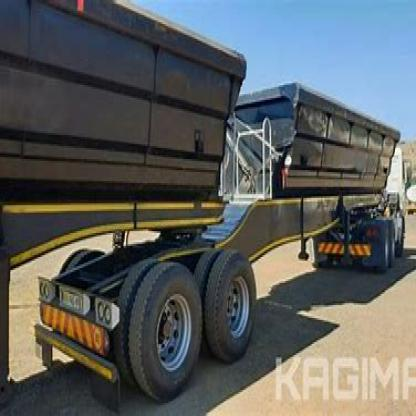dump_truck: (6, 4, 410, 396)
